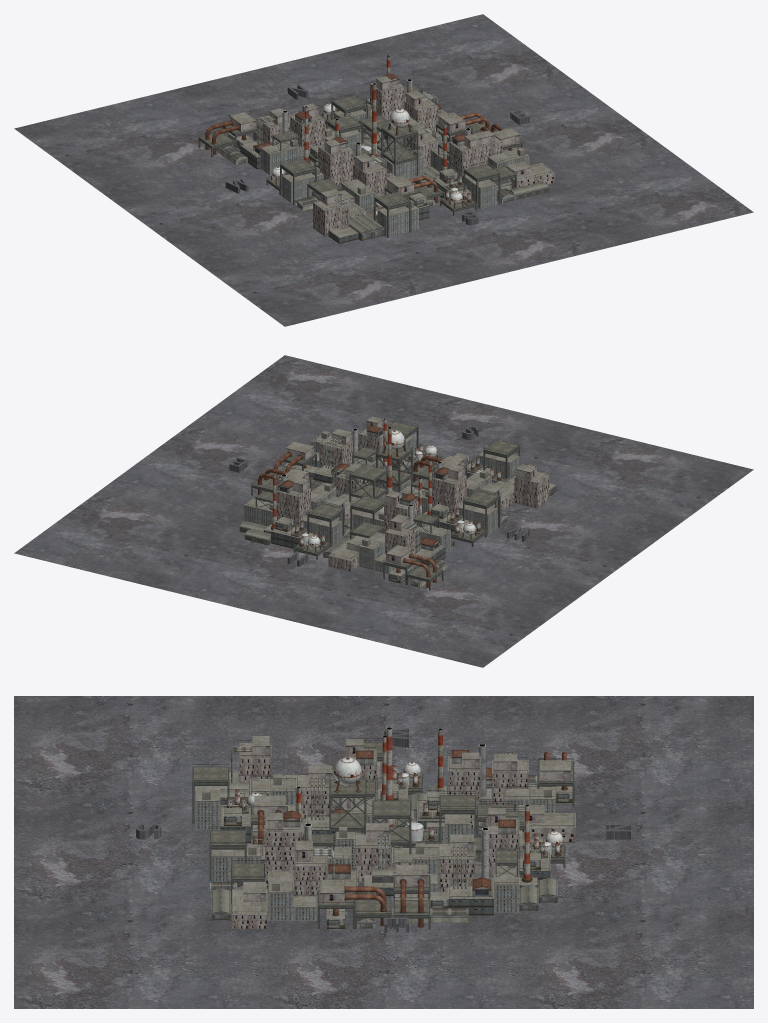
File: factory.fbx
The picture shows the model from 3 angles, top to bottom: view 1: azimuth 30°, elevation 25°; view 2: azimuth 150°, elevation 25°; view 3: azimuth 270°, elevation 25°; orthographic projection. The views are drawn at different scales.
Visible parts, largest first — view 1: Plane01, Factory_02; view 2: Plane01, Factory_02; view 3: Plane01, Factory_02.
Boxes of the visible parts, <box> form: Plane01: <box>14,14,753,326</box>; Factory_02: <box>198,55,555,243</box>; Plane01: <box>14,355,753,667</box>; Factory_02: <box>239,416,556,590</box>; Plane01: <box>14,696,753,1008</box>; Factory_02: <box>192,727,575,929</box>.
Size of the model in its own units: 40000 by 40000 by 7090.
Materials: 2 (2 with a texture image).
